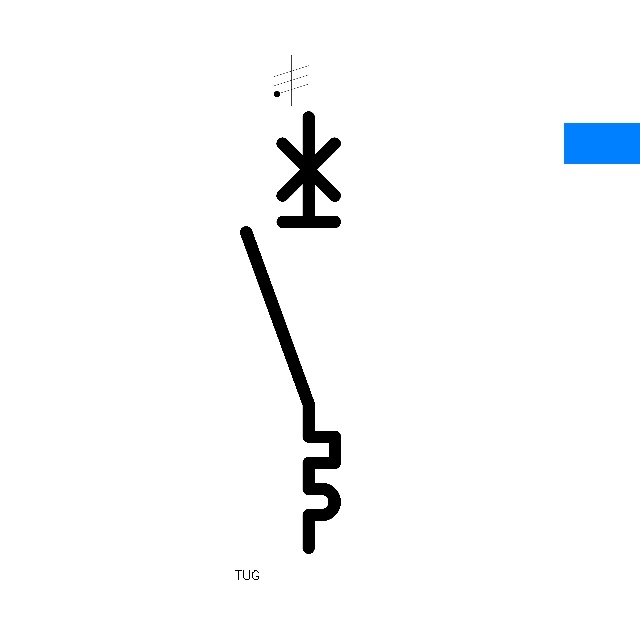interruptor_termomagnetico: (235, 106, 346, 559)
